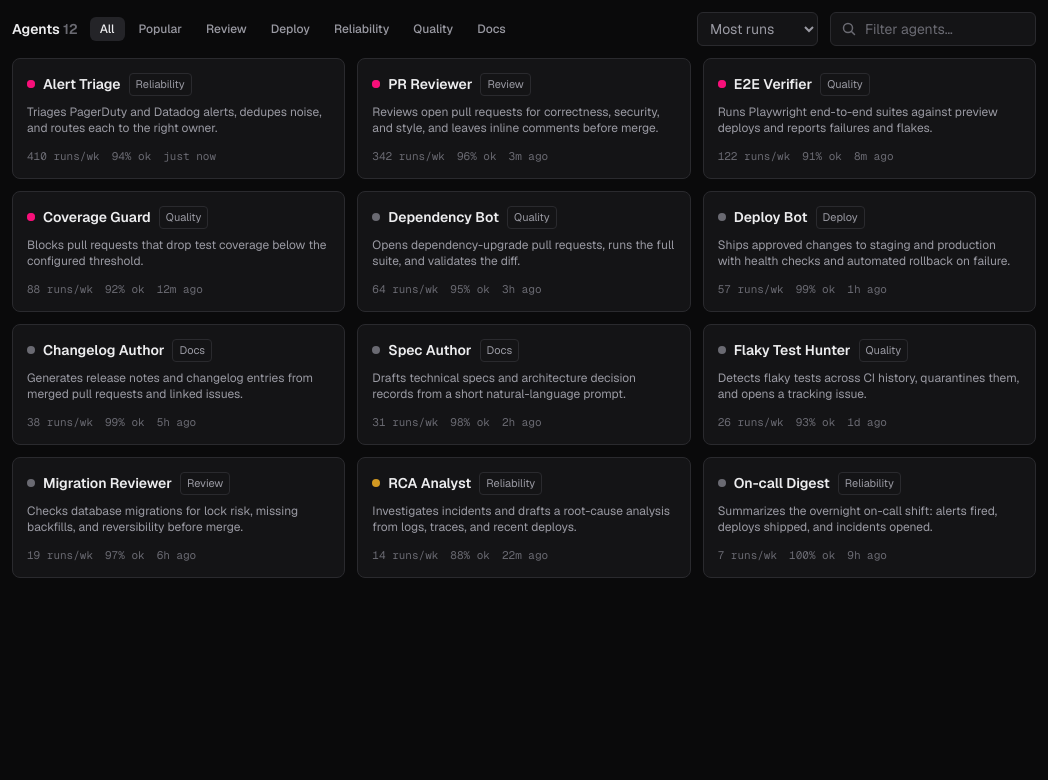
Test: <AgentGrid /> › filters agents by the search query
In the field labelled "Filter agents": (945, 29) [865, 19, 1025, 39], type "deploy"
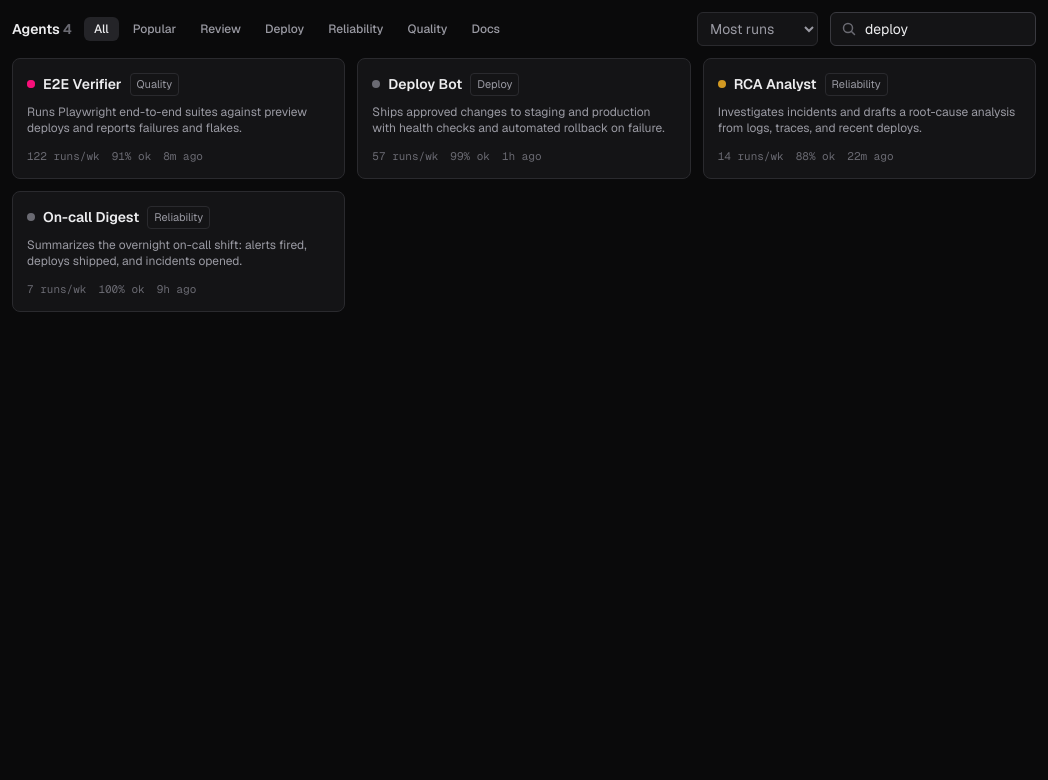
Check: the text "Deploy Bot" is shown, box [388, 74, 462, 94]
Check: the button "PR Reviewer" is gone
